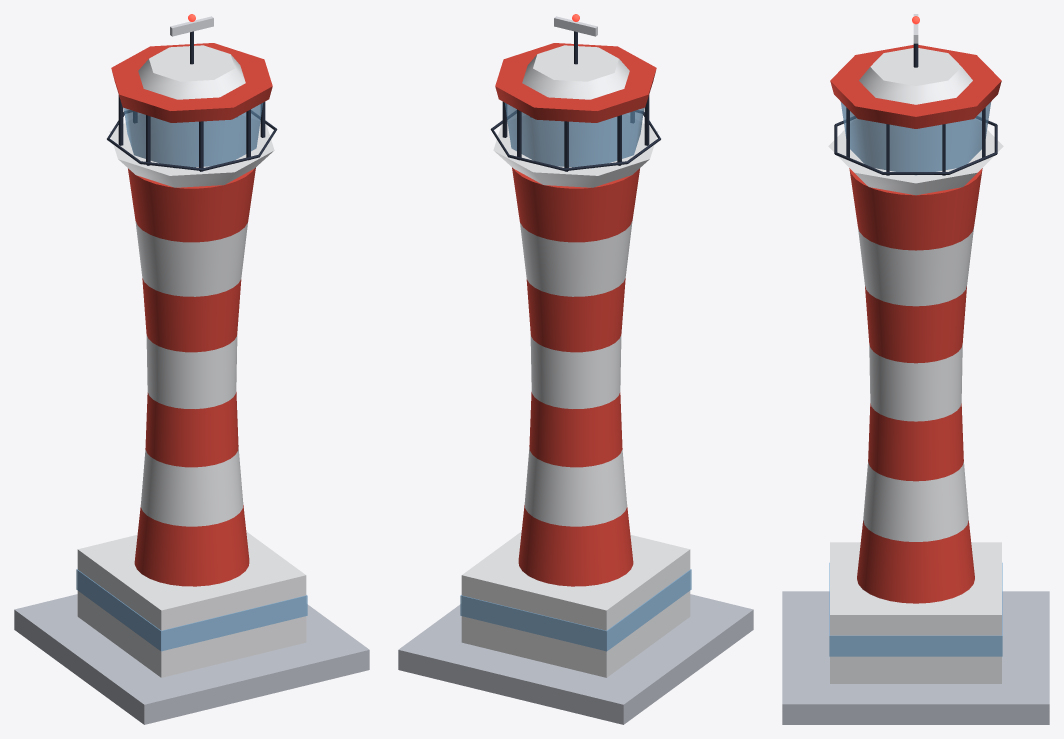
The model's file is control-tower.glb.
3 views of the same model, side by side, from view 1: azimuth 30°, elevation 25°; view 2: azimuth 150°, elevation 25°; view 3: azimuth 270°, elevation 25° (orthographic). The views are drawn at different scales.
Visible parts, largest first — view 1: Lobby, Plinth, Gallery, Shaft0, Shaft6, Shaft1, Roof, Shaft5, Shaft2, Cab, Shaft4, Shaft3 (+3 smaller); view 2: Lobby, Plinth, Gallery, Shaft0, Shaft6, Shaft1, Roof, Shaft5, Shaft2, Cab, Shaft4, Shaft3 (+3 smaller); view 3: Plinth, Lobby, Gallery, Shaft0, Shaft6, Shaft1, Roof, Shaft5, Cab, Shaft2, Shaft4, Shaft3 (+3 smaller).
Part boxes in pixels (x1=…): Lobby: x1=77, y1=531, x2=306, y2=677; Plinth: x1=14, y1=594, x2=369, y2=724; Gallery: x1=109, y1=114, x2=274, y2=187; Shaft0: x1=134, y1=505, x2=249, y2=586; Shaft6: x1=128, y1=167, x2=255, y2=242; Shaft1: x1=140, y1=447, x2=243, y2=526; Roof: x1=111, y1=43, x2=272, y2=122; Shaft5: x1=135, y1=221, x2=247, y2=296; Shaft2: x1=145, y1=391, x2=238, y2=467; Cab: x1=123, y1=103, x2=262, y2=168; Shaft4: x1=142, y1=278, x2=241, y2=352; Shaft3: x1=146, y1=335, x2=237, y2=408; Lobby: x1=461, y1=531, x2=690, y2=677; Plinth: x1=398, y1=594, x2=753, y2=724; Gallery: x1=493, y1=114, x2=658, y2=187; Shaft0: x1=518, y1=505, x2=633, y2=586; Shaft6: x1=512, y1=167, x2=639, y2=242; Shaft1: x1=524, y1=447, x2=627, y2=526; Roof: x1=495, y1=43, x2=656, y2=122; Shaft5: x1=520, y1=221, x2=632, y2=296; Shaft2: x1=529, y1=391, x2=622, y2=467; Cab: x1=505, y1=103, x2=644, y2=168; Shaft4: x1=526, y1=278, x2=625, y2=352; Shaft3: x1=530, y1=335, x2=621, y2=408; Plinth: x1=782, y1=591, x2=1049, y2=724; Lobby: x1=830, y1=542, x2=1001, y2=683; Gallery: x1=828, y1=119, x2=1003, y2=195; Shaft0: x1=857, y1=520, x2=974, y2=603; Shaft6: x1=849, y1=168, x2=982, y2=250; Shaft1: x1=863, y1=461, x2=968, y2=541; Roof: x1=830, y1=45, x2=1001, y2=128; Shaft5: x1=858, y1=227, x2=973, y2=306; Cab: x1=841, y1=102, x2=990, y2=175; Shaft2: x1=868, y1=403, x2=963, y2=481; Shaft4: x1=865, y1=286, x2=966, y2=363; Shaft3: x1=869, y1=344, x2=962, y2=421.
Size of the model in its own units: 14 by 37.72 by 14.
